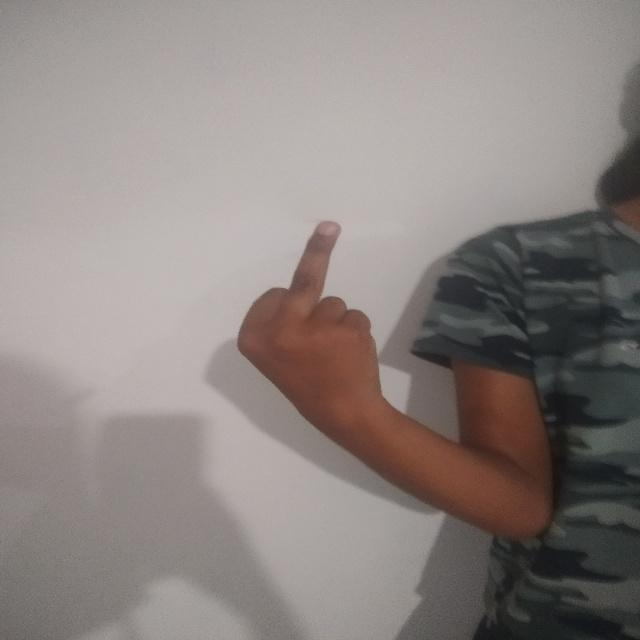Middle Finger: (231, 205, 417, 435)
